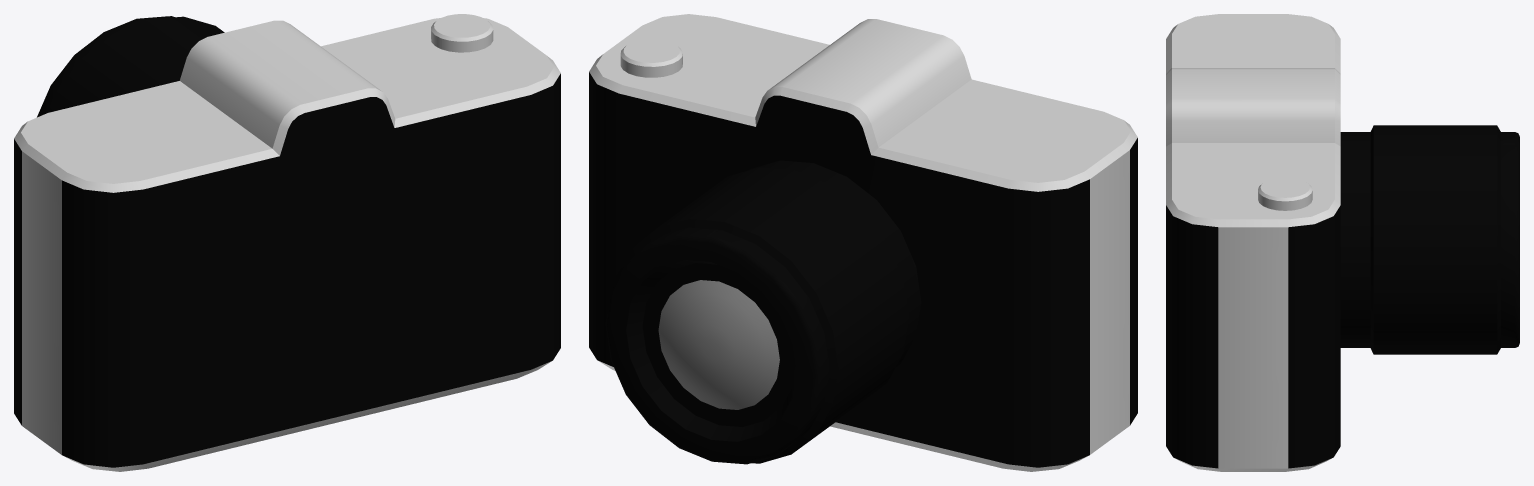
Rendered from camera.fbx.
3 renders of one model, left to right at view 1: azimuth 30°, elevation 25°; view 2: azimuth 150°, elevation 25°; view 3: azimuth 270°, elevation 25°, orthographic. The views are drawn at different scales.
Visible parts, largest first — view 1: Cube; view 2: Cube; view 3: Cube.
Boxes of the visible parts, bbox=[...] form: Cube: bbox=[14, 14, 560, 471]; Cube: bbox=[589, 14, 1137, 471]; Cube: bbox=[1166, 14, 1519, 471].
Bounding box in the file's own units: 16 × 10.21 × 11.37.
Materials: 1 (1 with a texture image).
